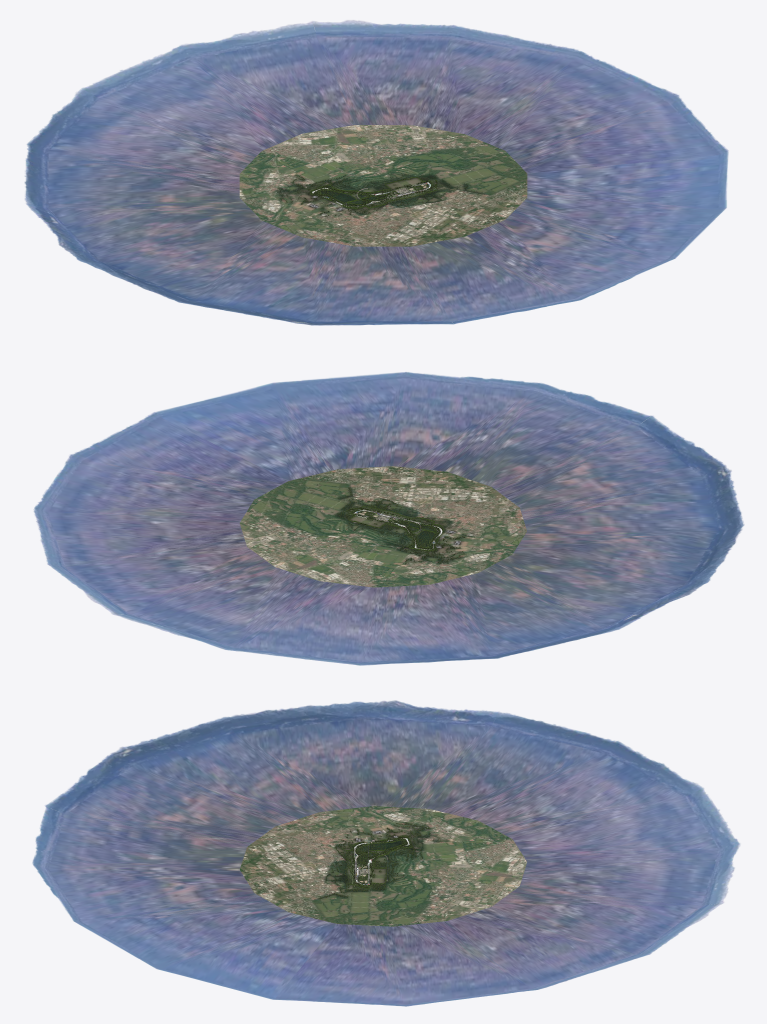
Rendered from monza_ac.glb.
The picture shows the model from 3 angles, top to bottom: view 1: azimuth 30°, elevation 25°; view 2: azimuth 150°, elevation 25°; view 3: azimuth 270°, elevation 25°; orthographic projection.
Size of the model in its own units: 15429 by 398 by 15428.
74 materials, 74 textured.
